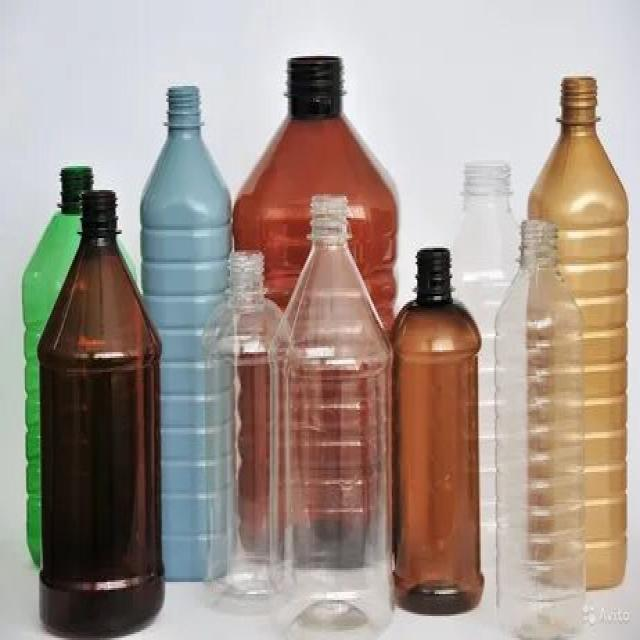brown: (39, 188, 162, 640), (390, 248, 484, 612), (231, 53, 399, 197)
green: (24, 167, 81, 260)
